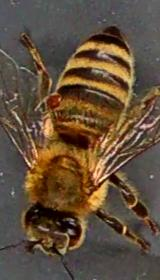varroa_mite: (36, 86, 70, 113)
